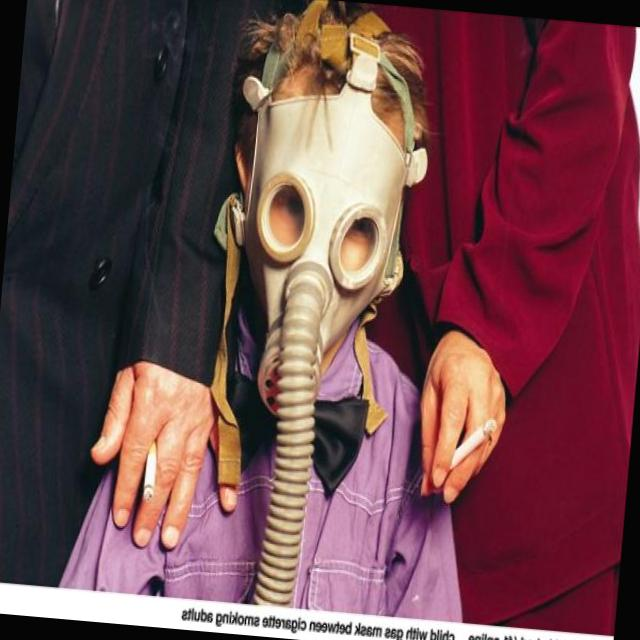smoke: (432, 404, 498, 486)
